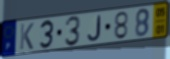3: (65, 15, 82, 47), (38, 19, 55, 51)
8: (135, 7, 151, 39), (113, 10, 129, 40)
J: (86, 15, 102, 42)
K: (19, 22, 35, 51)
